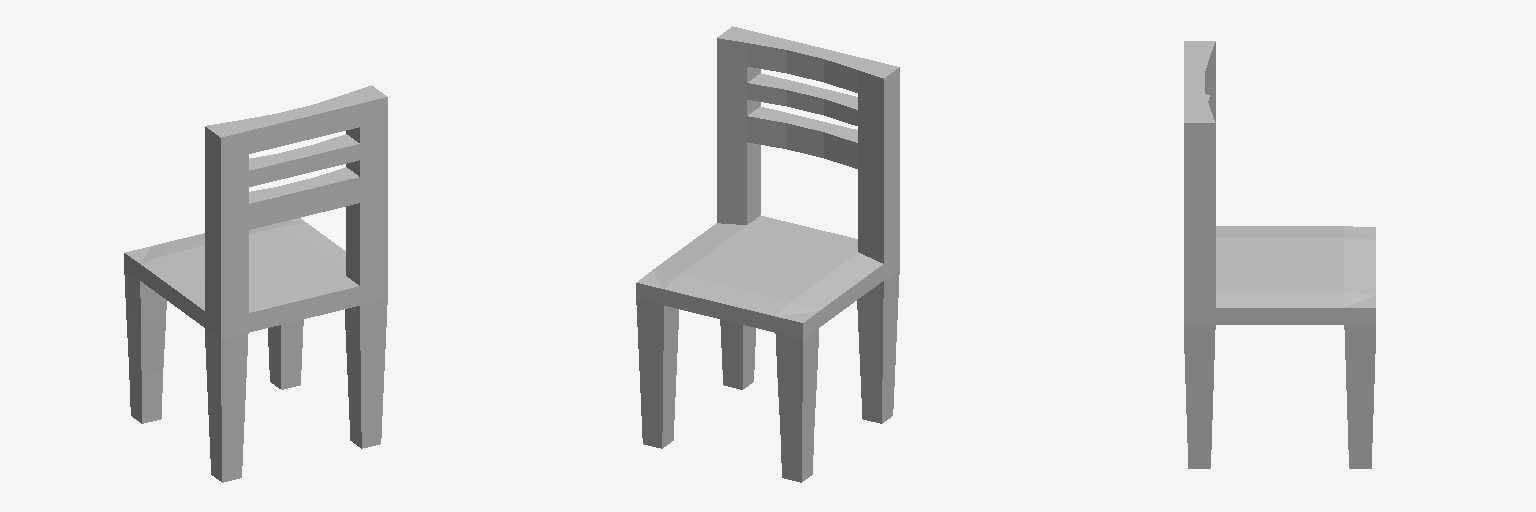
File: Krzesło.obj
3 renders of one model, left to right at view 1: azimuth 30°, elevation 25°; view 2: azimuth 150°, elevation 25°; view 3: azimuth 270°, elevation 25°, orthographic.
Visible parts, largest first — view 1: Cube; view 2: Cube; view 3: Cube.
Boxes of the visible parts, <box> form: Cube: <box>124,85,387,482</box>; Cube: <box>636,26,899,482</box>; Cube: <box>1184,41,1375,468</box>.
Bounding box in the file's own units: 2 × 3.98 × 2.